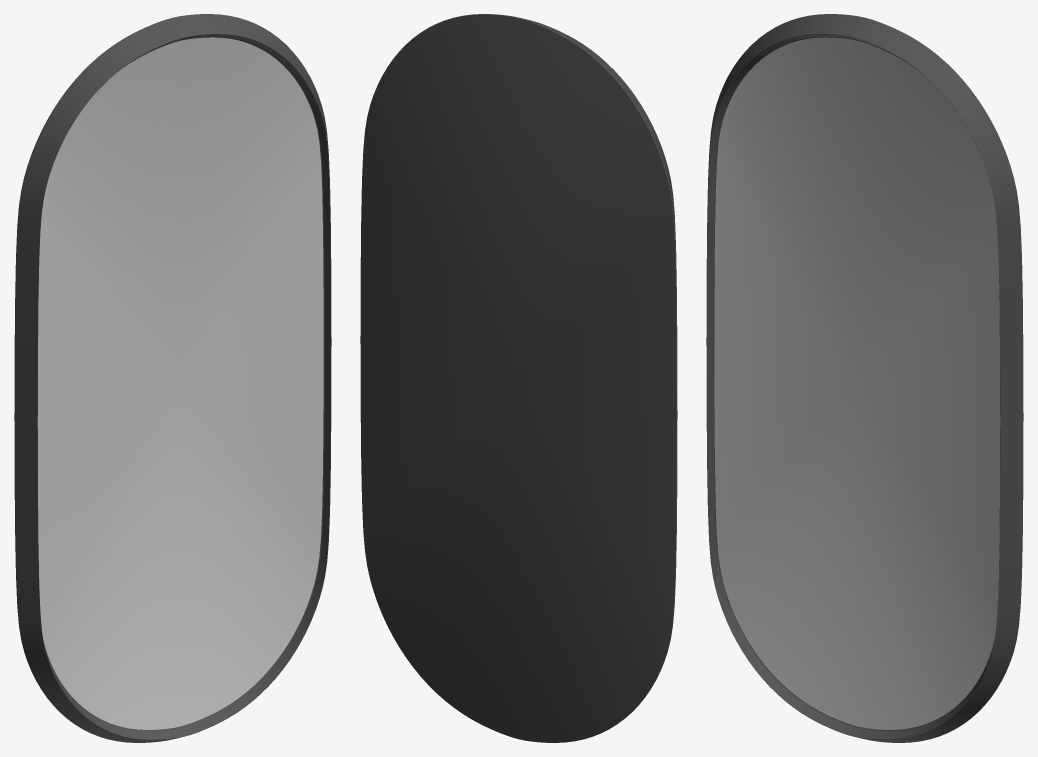
The model's file is Mirror_005.gltf.
3 renders of one model, left to right at view 1: azimuth 30°, elevation 25°; view 2: azimuth 150°, elevation 25°; view 3: azimuth 330°, elevation 25°, orthographic.
Parts seen in each view (by area): view 1: Mirror_005; view 2: Mirror_005; view 3: Mirror_005.
Part boxes in pixels (x1=…): Mirror_005: x1=14, y1=14, x2=331, y2=742; Mirror_005: x1=360, y1=14, x2=677, y2=742; Mirror_005: x1=706, y1=14, x2=1023, y2=742.
Size of the model in its own units: 0.4983 by 1.08 by 0.0326.
1 material, 1 textured.
